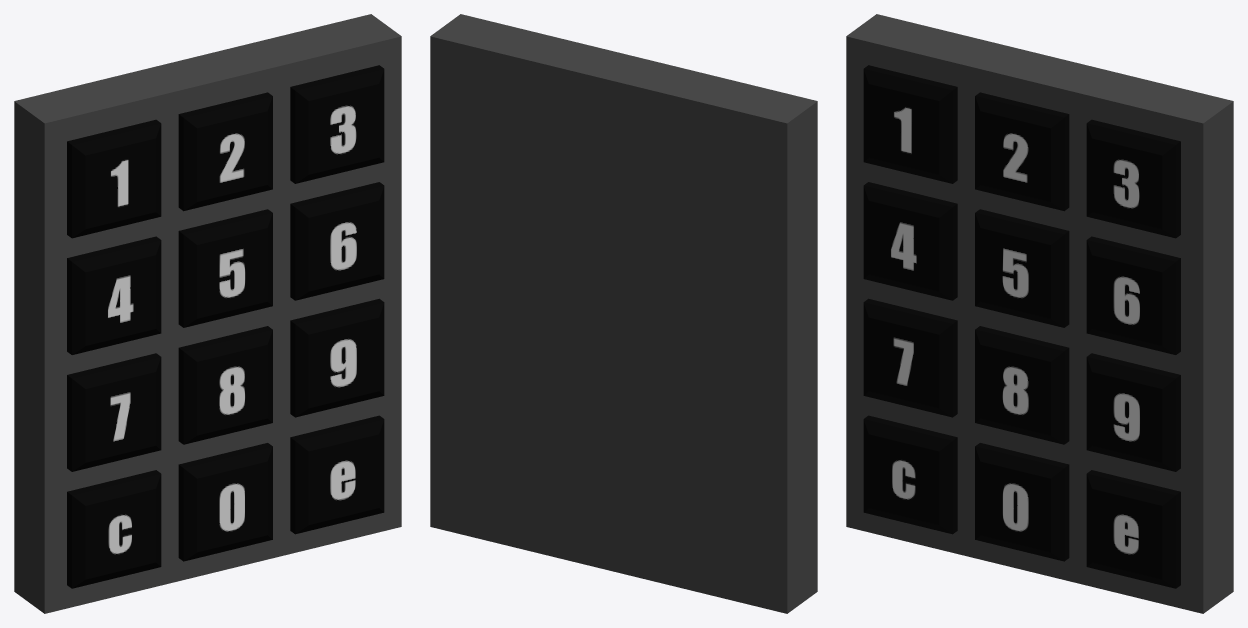
File: Keypad.glb
3 views of the same model, side by side, from view 1: azimuth 30°, elevation 25°; view 2: azimuth 150°, elevation 25°; view 3: azimuth 330°, elevation 25° (orthographic).
Parts seen in each view (by area): view 1: Keypad; view 2: Keypad; view 3: Keypad.
Part boxes in pixels (x1,y1,x2,y2): Keypad: (14,14,401,613); Keypad: (430,14,817,613); Keypad: (846,14,1233,613).
Size of the model in its own units: 1.6 by 2.1 by 0.3076.
2 materials, 1 textured.
